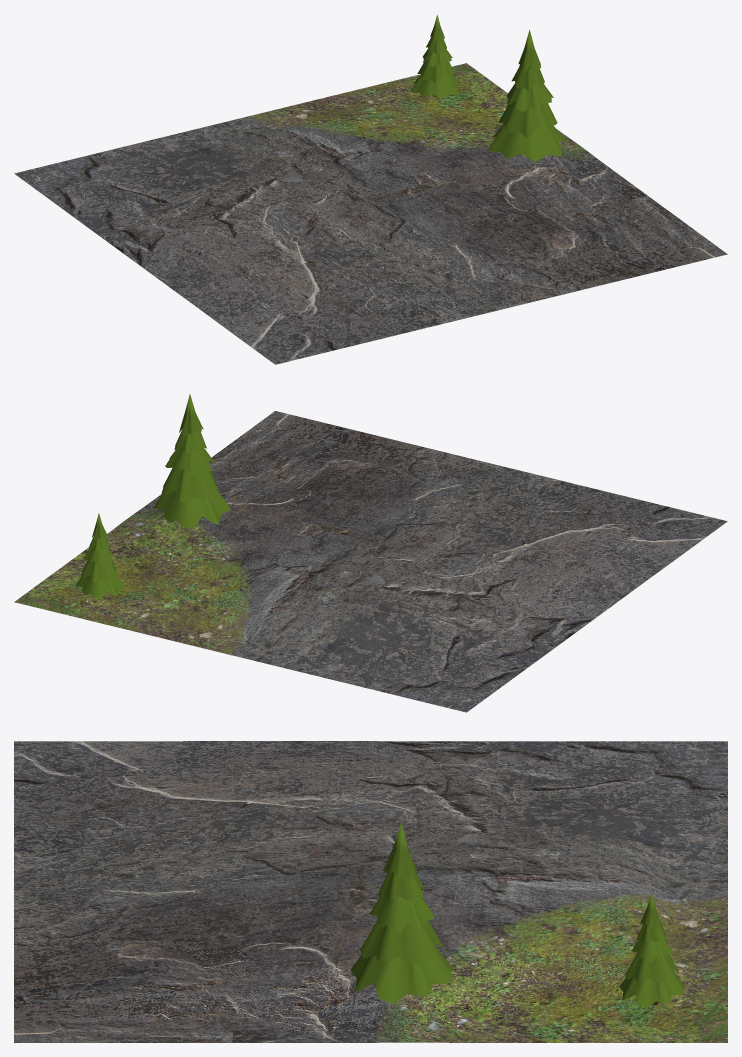
File: MFMM.fbx
The picture shows the model from 3 angles, top to bottom: view 1: azimuth 30°, elevation 25°; view 2: azimuth 150°, elevation 25°; view 3: azimuth 270°, elevation 25°; orthographic projection. The views are drawn at different scales.
Parts seen in each view (by area): view 1: Plane, Resource_PineTree_Group.031, Resource_PineTree_Group.032, Resource_PineTree_Group.033, Resource_PineTree_Group.005; view 2: Plane, Resource_PineTree_Group.031, Resource_PineTree_Group.032, Resource_PineTree_Group.033, Resource_PineTree_Group.005, Resource_PineTree_Group.004, Resource_PineTree_Group.035; view 3: Plane, Resource_PineTree_Group.031, Resource_PineTree_Group.032, Resource_PineTree_Group.033, Resource_PineTree_Group.005, Resource_PineTree_Group.004, Resource_PineTree_Group.034, Resource_PineTree_Group.035, Resource_PineTree_Group.003.
Part boxes in pixels (box(x1,y1,x2,y2)): Plane: box(14, 63, 727, 364); Resource_PineTree_Group.031: box(487, 124, 567, 161); Resource_PineTree_Group.032: box(498, 101, 557, 137); Resource_PineTree_Group.033: box(506, 83, 553, 111); Resource_PineTree_Group.005: box(410, 75, 461, 98); Plane: box(14, 411, 727, 712); Resource_PineTree_Group.031: box(153, 490, 230, 528); Resource_PineTree_Group.032: box(161, 468, 219, 501); Resource_PineTree_Group.033: box(165, 447, 215, 474); Resource_PineTree_Group.005: box(75, 574, 124, 598); Resource_PineTree_Group.004: box(80, 560, 117, 581); Resource_PineTree_Group.035: box(179, 394, 203, 436); Plane: box(14, 741, 727, 1042); Resource_PineTree_Group.031: box(350, 949, 454, 1003); Resource_PineTree_Group.032: box(360, 920, 443, 963); Resource_PineTree_Group.033: box(369, 896, 434, 932); Resource_PineTree_Group.005: box(619, 974, 685, 1008); Resource_PineTree_Group.004: box(625, 955, 678, 982); Resource_PineTree_Group.034: box(378, 868, 425, 900); Resource_PineTree_Group.035: box(383, 821, 417, 879); Resource_PineTree_Group.003: box(631, 939, 672, 962).
Size of the model in its own units: 500 by 145 by 500.
